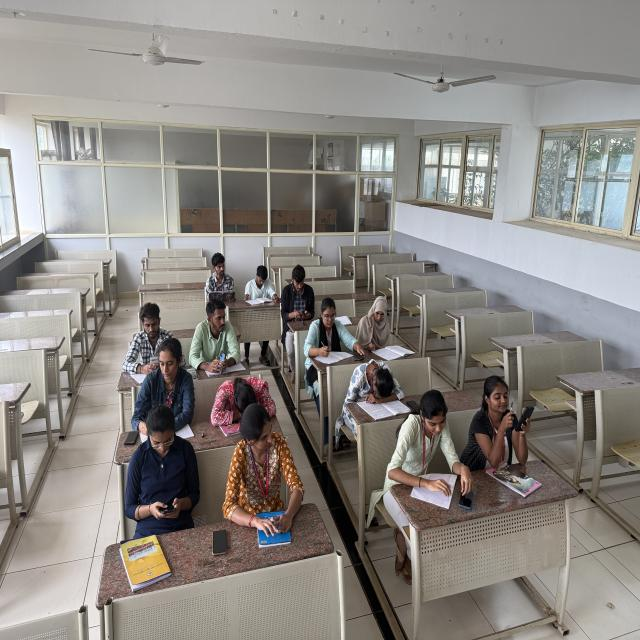Reading: (391, 387, 466, 496), (200, 253, 242, 307), (246, 256, 280, 308)
Sleeping: (209, 370, 280, 426), (345, 355, 407, 408)
Using Phone: (122, 413, 208, 532), (464, 374, 541, 468), (112, 286, 176, 373), (193, 293, 252, 379), (280, 265, 318, 328)
Writing: (138, 333, 198, 422), (357, 296, 414, 360), (306, 299, 355, 367)
